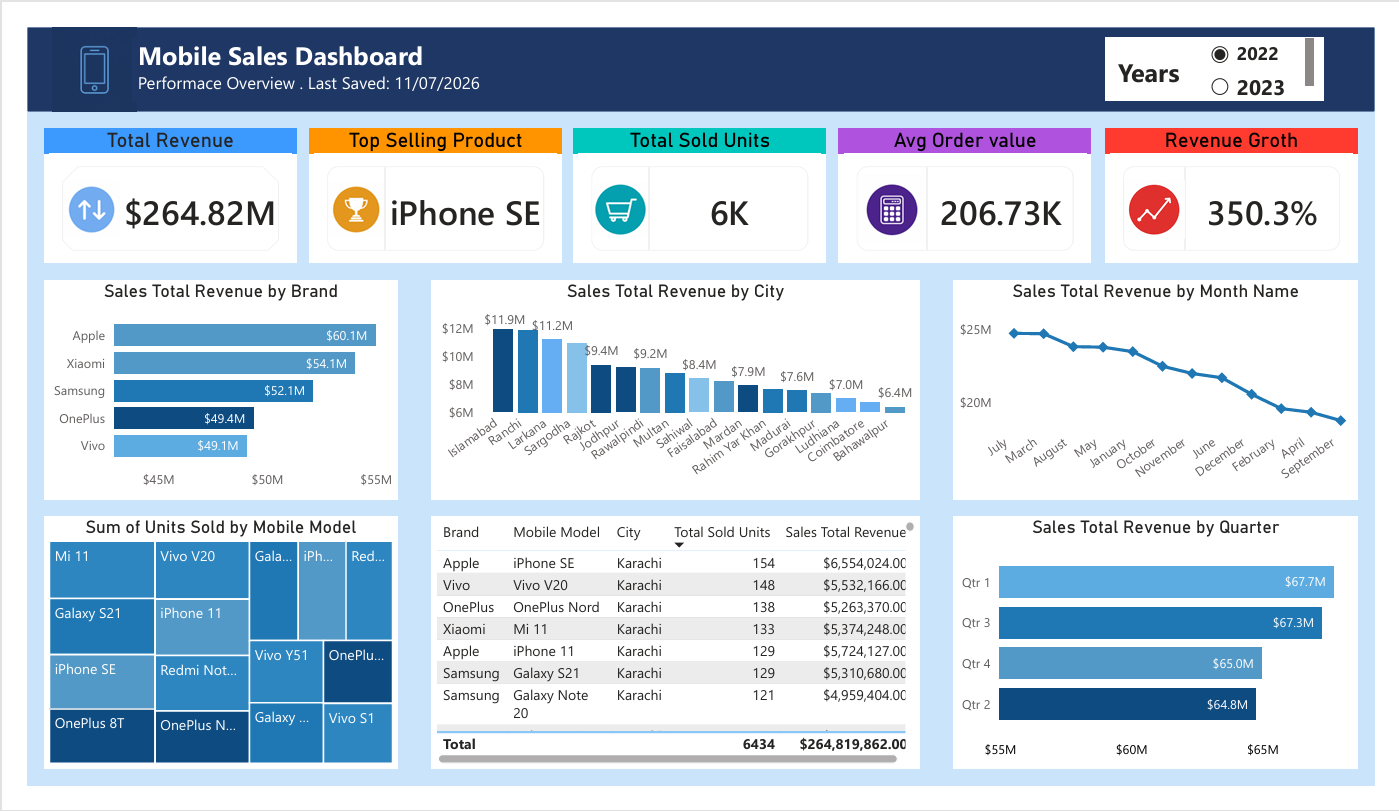

This screenshot's page, from the dashboard's own definition file:
{"tool":"powerbi","page":{"name":"Page 1","canvas":[1280,720],"ordinal":0},"visuals":[{"type":"shape","box":[0,0,1280,80],"z":1000},{"type":"cardVisual","title":"Total Revenue","fields":{"Data":["Mobile_sales_data.Sales Total Revenue"]},"box":[16,96,240,128],"z":2000},{"type":"cardVisual","title":"Total Sold Units","fields":{"Data":["Mobile_sales_data.Total Sold Units"]},"box":[519,96,240,128],"z":3000},{"type":"cardVisual","title":"Top Selling Product","fields":{"Data":["Mobile_sales_data.Top Selling Product"]},"box":[268,96,240,128],"z":4000},{"type":"cardVisual","title":"Avg Order value","fields":{"Data":["Mobile_sales_data.AOV(Average Order Value)"]},"box":[771,96,240,128],"z":5000},{"type":"cardVisual","title":"Revenue Groth","fields":{"Data":["Mobile_sales_data.Revenue Growth %"]},"box":[1024,96,240,128],"z":6000},{"type":"clusteredBarChart","fields":{"Category":["Mobile_sales_data.Brand"],"Y":["Mobile_sales_data.Sales Total Revenue"]},"box":[16,240,336,208],"z":7000},{"type":"clusteredColumnChart","fields":{"Category":["Mobile_sales_data.City"],"Y":["Mobile_sales_data.Sales Total Revenue"]},"box":[384,240,464,208],"z":8000},{"type":"lineChart","fields":{"Category":["Calendar.Month Name"],"Y":["Mobile_sales_data.Sales Total Revenue"]},"box":[880,240,384,208],"z":9000},{"type":"treemap","fields":{"Group":["Mobile_sales_data.Mobile Model"],"Values":["Sum(Mobile_sales_data.Sum of Units Sold)"]},"box":[16,464,336,240],"z":10000},{"type":"tableEx","fields":{"Values":["Mobile_sales_data.Brand","Mobile_sales_data.Mobile Model","Mobile_sales_data.City","Mobile_sales_data.Total Sold Units","Mobile_sales_data.Sales Total Revenue"]},"box":[384,464,464,240],"z":11000},{"type":"clusteredBarChart","fields":{"Category":["Mobile_sales_data.Quarter"],"Y":["Mobile_sales_data.Sales Total Revenue"]},"box":[880,464,384,240],"z":12000},{"type":"image","box":[0,0,128,80],"z":13000},{"type":"textbox","box":[100,10,336,48],"z":14000},{"type":"textbox","box":[100,40,352,30],"z":15000},{"type":"listSlicer","fields":{"Values":["Calendar.Year"]},"box":[1104,10,128,60],"z":16000},{"type":"textbox","box":[1024,10,80,60],"z":17000}]}

Visuals, with their boxes in screenshot pixels (x1, y1, x2, y2), scaled from the page's 1280x720 canvas onto the 1399x811 screenshot:
shape: [x1=0, y1=0, x2=1398, y2=90]
"Total Revenue" cardVisual: [x1=17, y1=108, x2=280, y2=252]
"Total Sold Units" cardVisual: [x1=567, y1=108, x2=830, y2=252]
"Top Selling Product" cardVisual: [x1=293, y1=108, x2=555, y2=252]
"Avg Order value" cardVisual: [x1=843, y1=108, x2=1105, y2=252]
"Revenue Groth" cardVisual: [x1=1119, y1=108, x2=1382, y2=252]
clusteredBarChart - Mobile_sales_data.Brand x Mobile_sales_data.Sales Total Revenue: [x1=17, y1=270, x2=385, y2=505]
clusteredColumnChart - Mobile_sales_data.City x Mobile_sales_data.Sales Total Revenue: [x1=420, y1=270, x2=927, y2=505]
lineChart - Calendar.Month Name x Mobile_sales_data.Sales Total Revenue: [x1=962, y1=270, x2=1382, y2=505]
treemap - Mobile_sales_data.Mobile Model x Sum(Mobile_sales_data.Sum of Units Sold): [x1=17, y1=523, x2=385, y2=793]
tableEx - Mobile_sales_data.Brand x Mobile_sales_data.Mobile Model: [x1=420, y1=523, x2=927, y2=793]
clusteredBarChart - Mobile_sales_data.Quarter x Mobile_sales_data.Sales Total Revenue: [x1=962, y1=523, x2=1382, y2=793]
image: [x1=0, y1=0, x2=140, y2=90]
textbox: [x1=109, y1=11, x2=477, y2=65]
textbox: [x1=109, y1=45, x2=494, y2=79]
listSlicer - Calendar.Year: [x1=1207, y1=11, x2=1347, y2=79]
textbox: [x1=1119, y1=11, x2=1207, y2=79]
